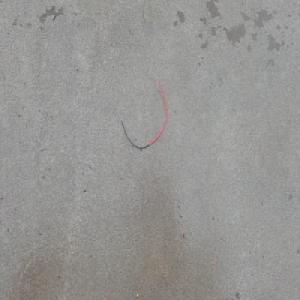Wire: (118, 74, 168, 149)
